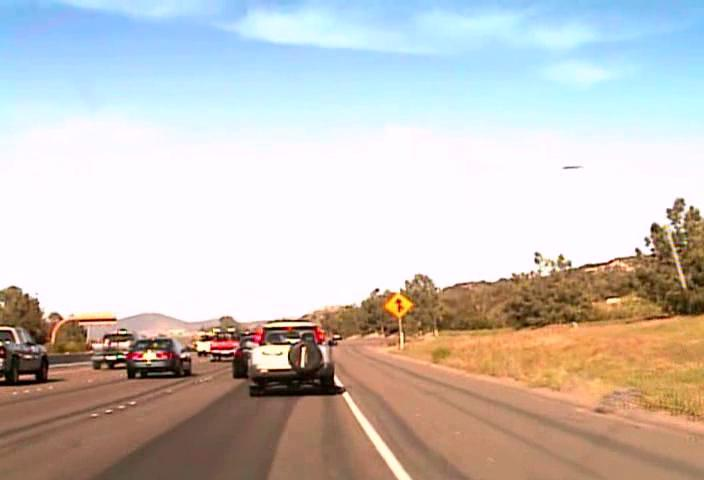merge: (382, 291, 414, 319)
